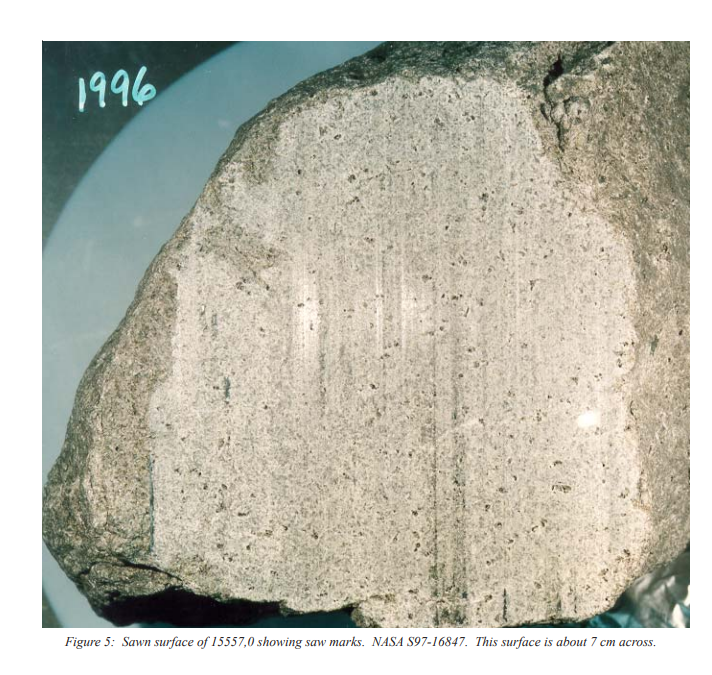Basalt: (90, 122, 670, 609)
